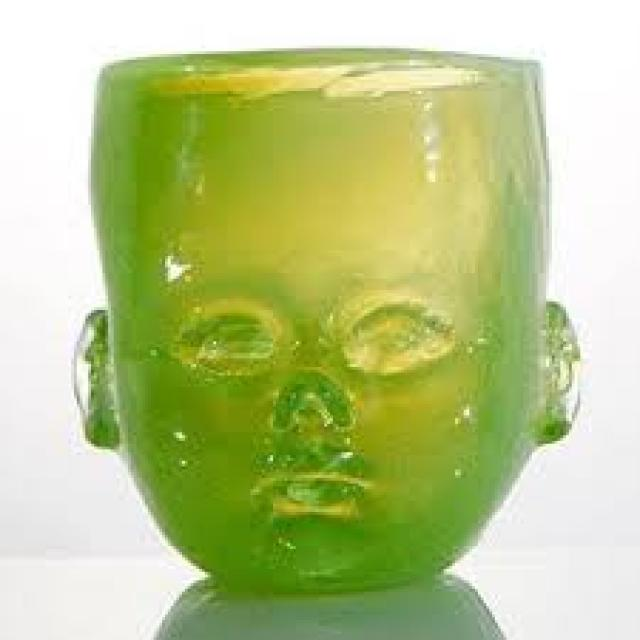glass: (68, 46, 575, 598)
